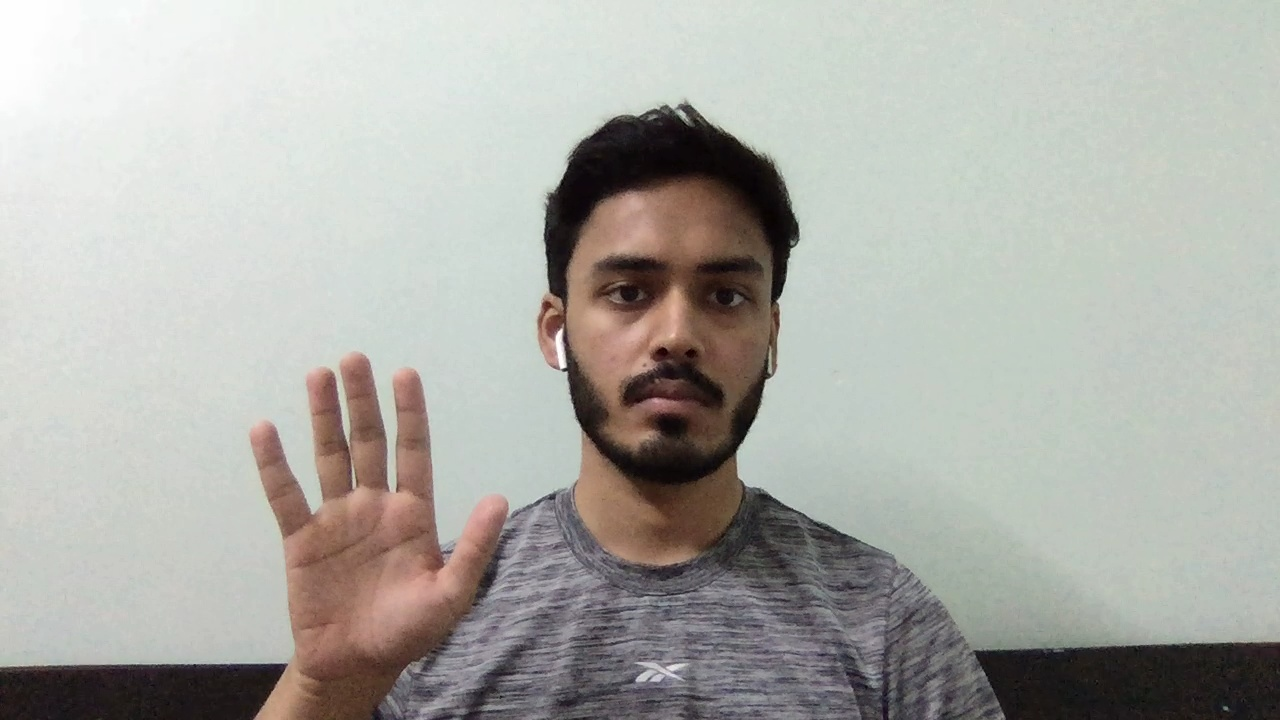Hello: (245, 348, 517, 697)
